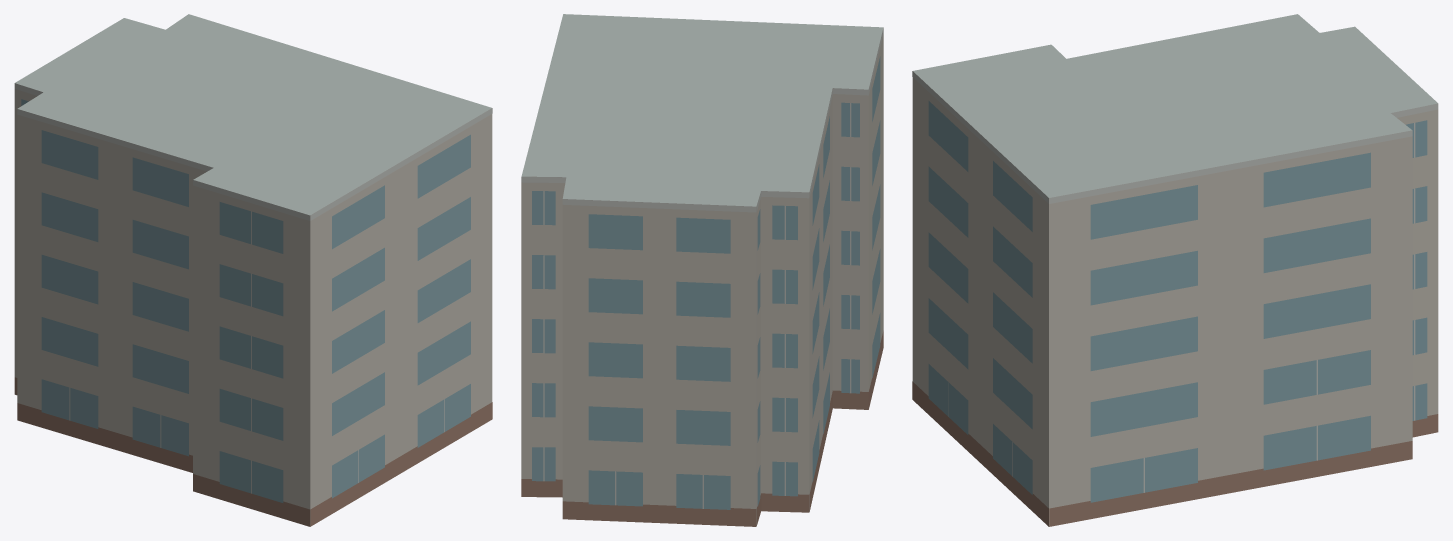
File: survey-upis-32712924.glb
3 renders of one model, left to right at view 1: azimuth 30°, elevation 25°; view 2: azimuth 150°, elevation 25°; view 3: azimuth 270°, elevation 25°, orthographic. The views are drawn at different scales.
Parts seen in each view (by area): view 1: survey-upis-32712924.tmp; view 2: survey-upis-32712924.tmp; view 3: survey-upis-32712924.tmp.
Part boxes in pixels (<box>): survey-upis-32712924.tmp: <box>14,14,492,526</box>; survey-upis-32712924.tmp: <box>521,14,883,526</box>; survey-upis-32712924.tmp: <box>912,14,1438,526</box>.
Size of the model in its own units: 15.98 by 13.3 by 19.28.
